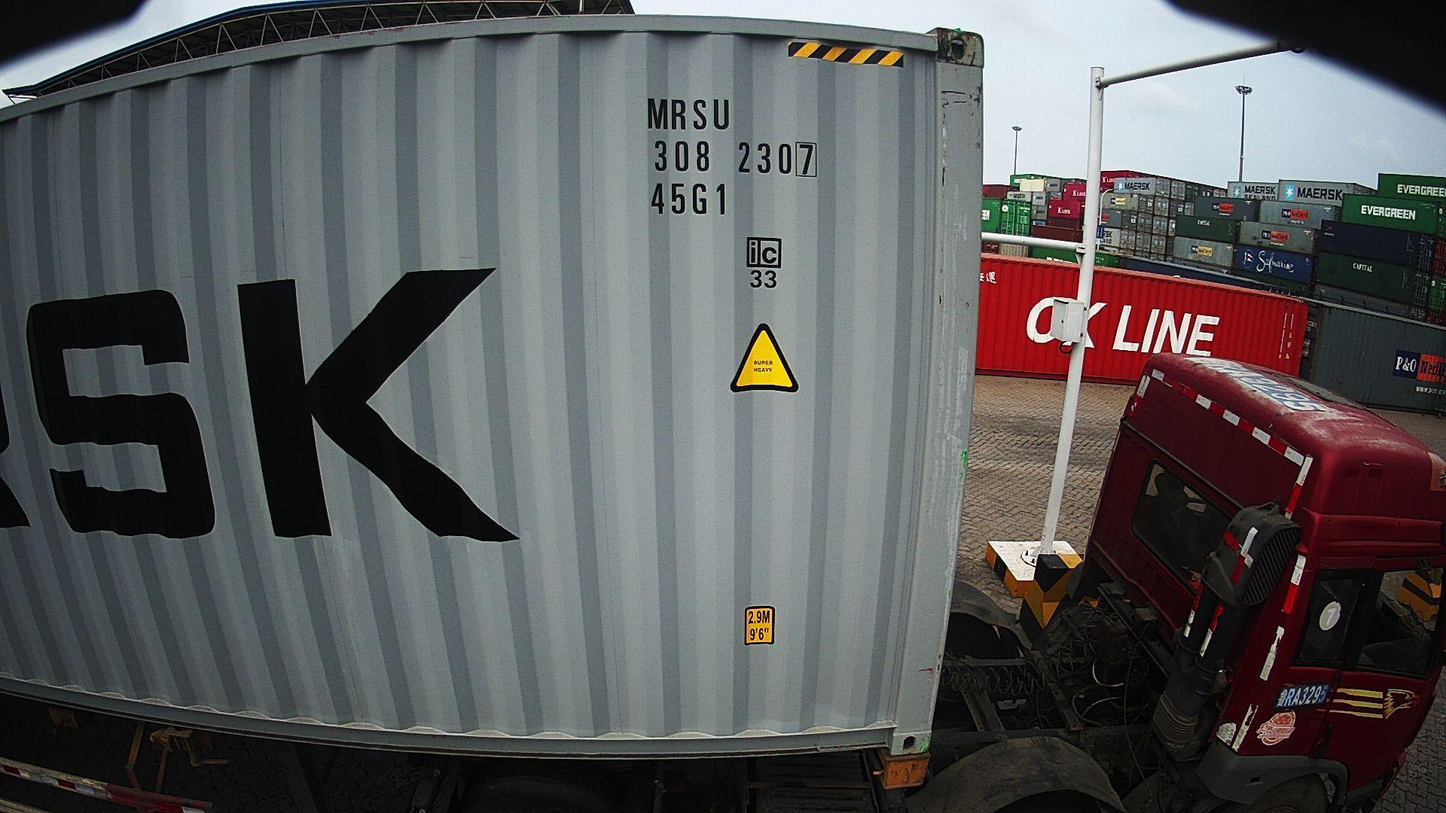container-numbers: (648, 138, 824, 180), (642, 94, 733, 134), (648, 180, 731, 219)
